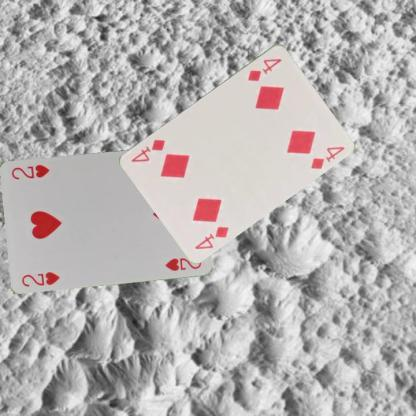2h: (19, 268, 61, 288)
4d: (245, 55, 283, 83), (192, 223, 230, 250)
